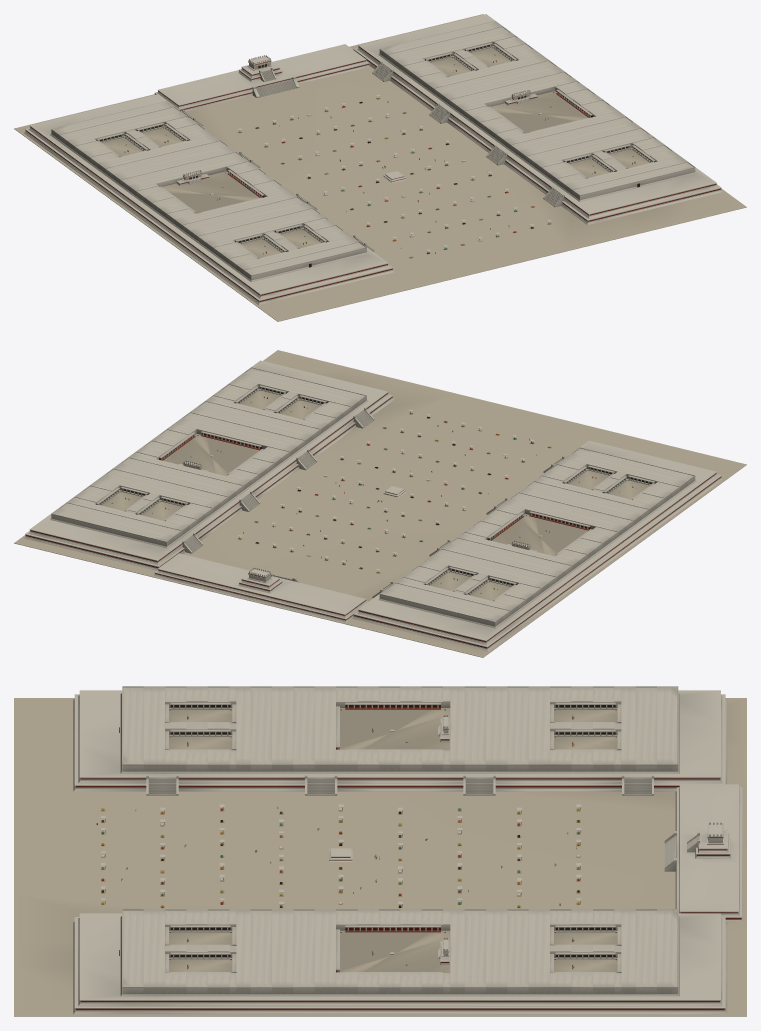
Rendered from great-compound.glb.
The picture shows the model from 3 angles, top to bottom: view 1: azimuth 30°, elevation 25°; view 2: azimuth 150°, elevation 25°; view 3: azimuth 270°, elevation 25°; orthographic projection. The views are drawn at different scales.
Visible parts, largest first — view 1: p0_platforms, p1_buildings, p2_market; view 2: p0_platforms, p1_buildings, p2_market; view 3: p0_platforms, p1_buildings, p2_market.
Boxes of the visible parts, x1=… form: p0_platforms: x1=14, y1=14, x2=746, y2=321; p1_buildings: x1=50, y1=21, x2=696, y2=281; p2_market: x1=237, y1=55, x2=551, y2=258; p0_platforms: x1=14, y1=350, x2=746, y2=657; p1_buildings: x1=50, y1=367, x2=696, y2=628; p2_market: x1=237, y1=409, x2=551, y2=593; p0_platforms: x1=14, y1=690, x2=746, y2=1016; p1_buildings: x1=119, y1=686, x2=679, y2=996; p2_market: x1=96, y1=804, x2=730, y2=908.
Size of the model in its own units: 380 by 16.21 by 370.
